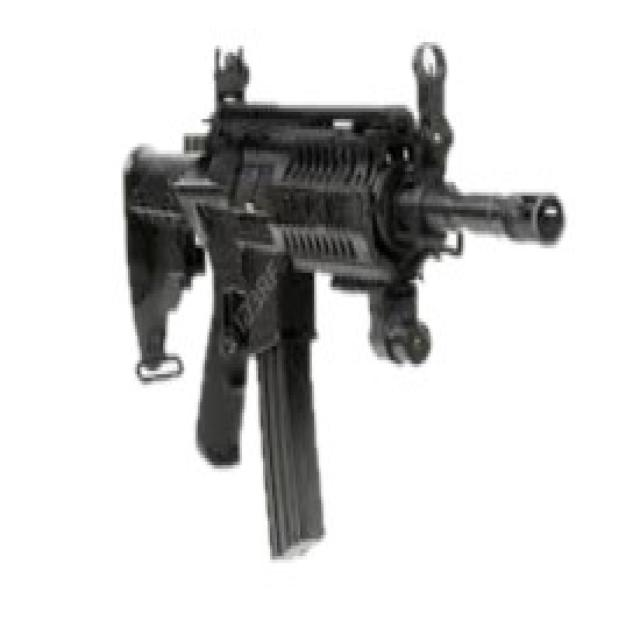rifle: (113, 32, 574, 565)
